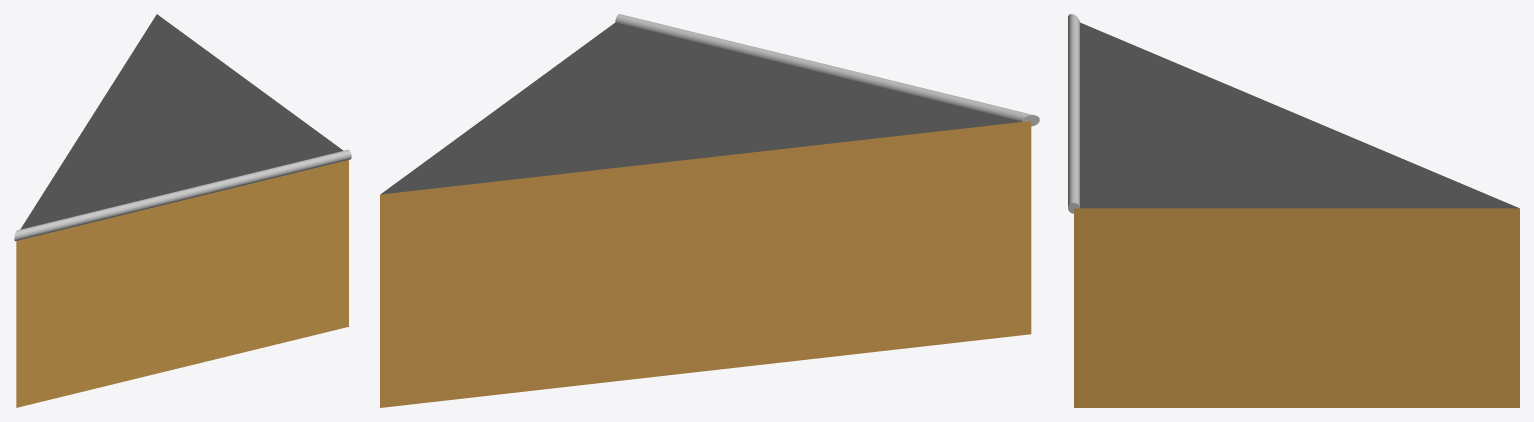
The model's file is Skate_Box_Corner_Single_Rail_01.FBX.
The picture shows the model from 3 angles, left to right: view 1: azimuth 30°, elevation 25°; view 2: azimuth 150°, elevation 25°; view 3: azimuth 270°, elevation 25°; orthographic projection. The views are drawn at different scales.
Visible parts, largest first — view 1: Skate_Box_Corner_Single_Rail_01; view 2: Skate_Box_Corner_Single_Rail_01; view 3: Skate_Box_Corner_Single_Rail_01.
Boxes of the visible parts, x1,y1,x2,y2 form: Skate_Box_Corner_Single_Rail_01: (14,14,351,407); Skate_Box_Corner_Single_Rail_01: (380,14,1039,407); Skate_Box_Corner_Single_Rail_01: (1068,14,1519,407).
Size of the model in its own units: 3.04 by 1.52 by 3.04.
